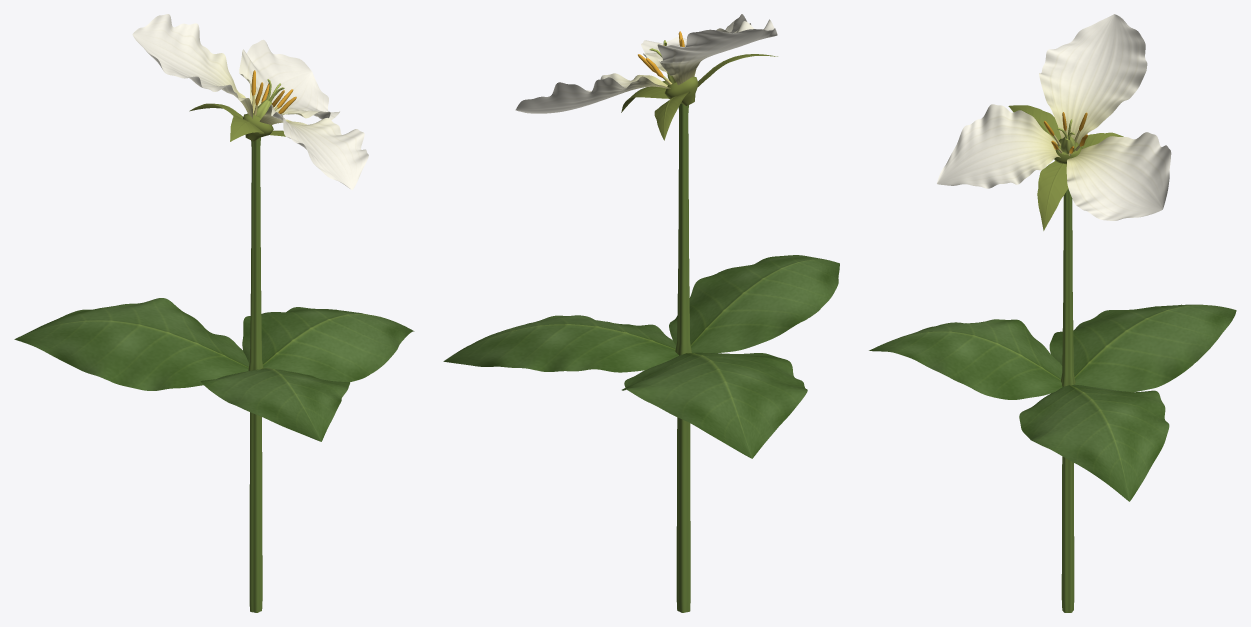
Rendered from trillium.glb.
3 renders of one model, left to right at view 1: azimuth 30°, elevation 25°; view 2: azimuth 150°, elevation 25°; view 3: azimuth 270°, elevation 25°, orthographic. The views are drawn at different scales.
Parts seen in each view (by area): view 1: Leaf 2, Leaf 1, Leaf 3, Stem, Petal 2, Petal 1, Petal 3; view 2: Leaf 2, Leaf 3, Leaf 1, Stem, Petal 2, Petal 1, Petal 3, Sepal 1, Receptacle; view 3: Leaf 2, Leaf 1, Leaf 3, Petal 2, Petal 1, Petal 3, Stem, Sepal 3, Sepal 2.
Part boxes in pixels (box(x1,y1,x2,y2)): Leaf 2: box(14, 298, 249, 390); Leaf 1: box(242, 307, 414, 381); Leaf 3: box(200, 367, 350, 441); Stem: box(248, 137, 263, 612); Petal 2: box(132, 14, 252, 118); Petal 1: box(239, 39, 339, 119); Petal 3: box(259, 104, 368, 190); Leaf 2: box(622, 352, 807, 458); Leaf 3: box(669, 255, 839, 353); Leaf 1: box(443, 315, 678, 372); Stem: box(675, 103, 691, 612); Petal 2: box(656, 19, 777, 85); Petal 1: box(515, 73, 670, 113); Petal 3: box(641, 14, 750, 72); Sepal 1: box(654, 91, 690, 140); Receptacle: box(664, 76, 698, 105); Leaf 2: box(1049, 304, 1236, 392); Leaf 1: box(1019, 384, 1169, 501); Leaf 3: box(869, 319, 1062, 399); Petal 2: box(1039, 14, 1147, 144); Petal 1: box(1066, 132, 1171, 220); Petal 3: box(937, 104, 1060, 188); Stem: box(1061, 188, 1075, 612); Sepal 3: box(1037, 161, 1068, 230); Sepal 2: box(1008, 105, 1061, 140).
Size of the model in its own units: 0.2386 by 0.3862 by 0.2335.
7 materials, 2 textured.
